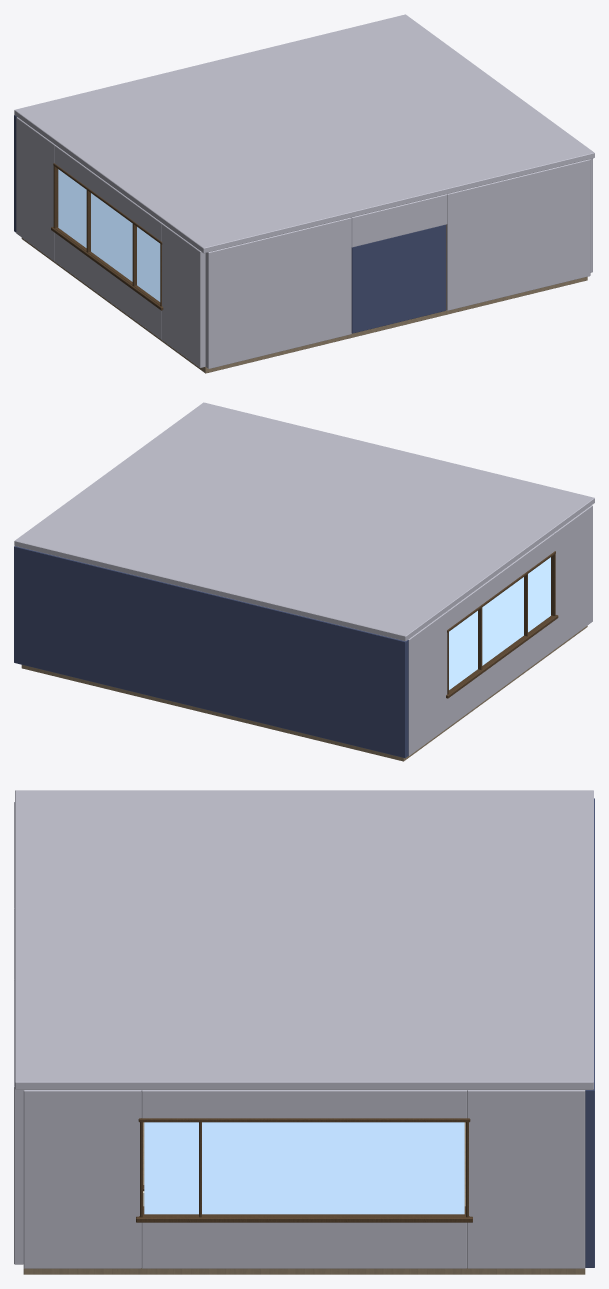
File: recommendation_room.glb
3 renders of one model, top to bottom at view 1: azimuth 30°, elevation 25°; view 2: azimuth 150°, elevation 25°; view 3: azimuth 270°, elevation 25°, orthographic. The views are drawn at different scales.
Parts seen in each view (by area): view 1: SM_Recommendation_Architecture; view 2: SM_Recommendation_Architecture; view 3: SM_Recommendation_Architecture.
Part boxes in pixels (box(x1,y1,x2,y2)): SM_Recommendation_Architecture: box(14, 14, 594, 373); SM_Recommendation_Architecture: box(14, 402, 594, 761); SM_Recommendation_Architecture: box(14, 790, 594, 1274).
Size of the model in its own units: 12.48 by 3.86 by 10.34.
Materials: 12 (2 with a texture image).
